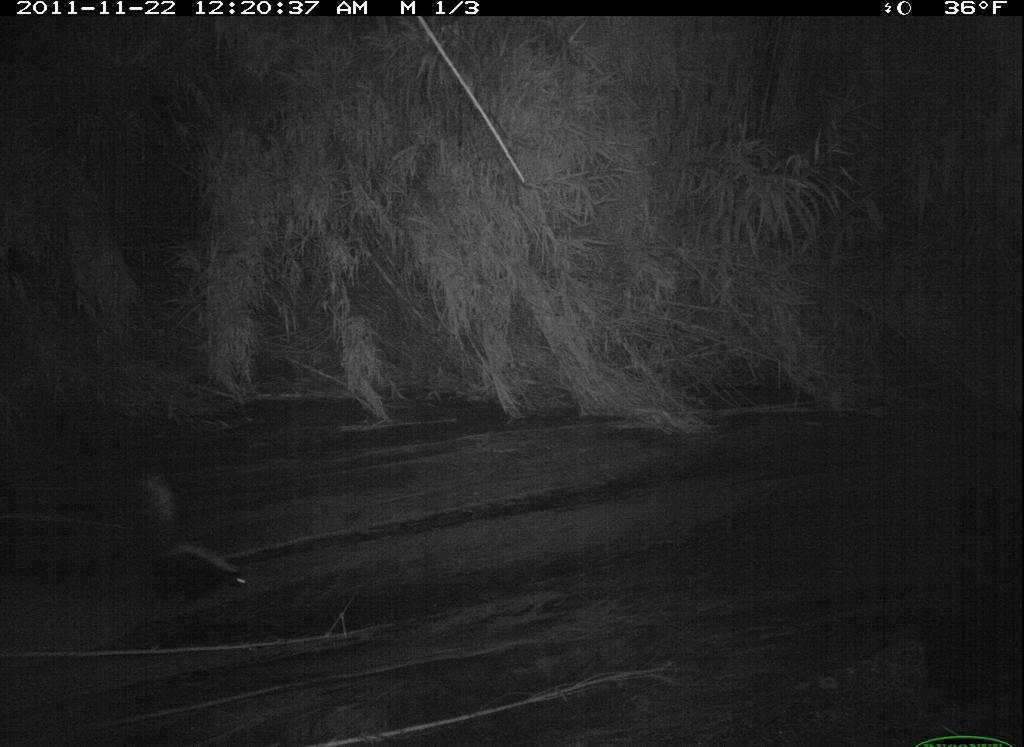skunk: (116, 461, 259, 606)
